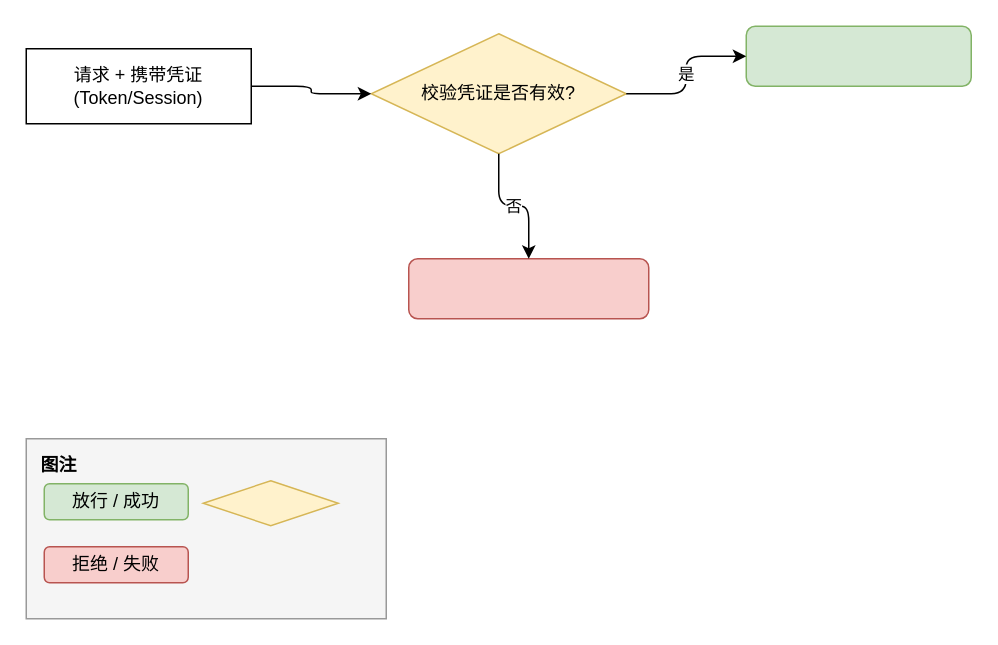
This 998x645 diagram has some shape labels left out. The box of each missing label's shape, as (x1, y1, x2, y2) in pixels:
401 拒绝 / 跳转登录: (407, 257, 649, 319)
判断: (202, 479, 338, 526)
放行 → 业务处理: (745, 25, 971, 86)
